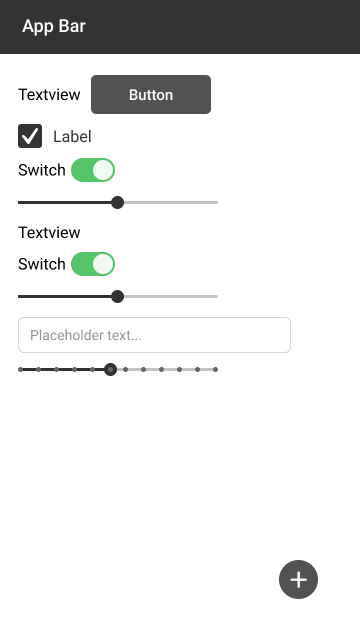button: (89, 73, 215, 117)
checkBox: (16, 121, 93, 150)
editText: (16, 315, 294, 355)
floatingButton: (279, 558, 318, 600)
slider: (17, 362, 222, 377)
slider1: (16, 289, 225, 303), (16, 195, 220, 208)
switch: (13, 252, 117, 276), (16, 158, 116, 182)
textView: (18, 84, 82, 106), (18, 224, 82, 239)
toolbar: (1, 1, 360, 55)
